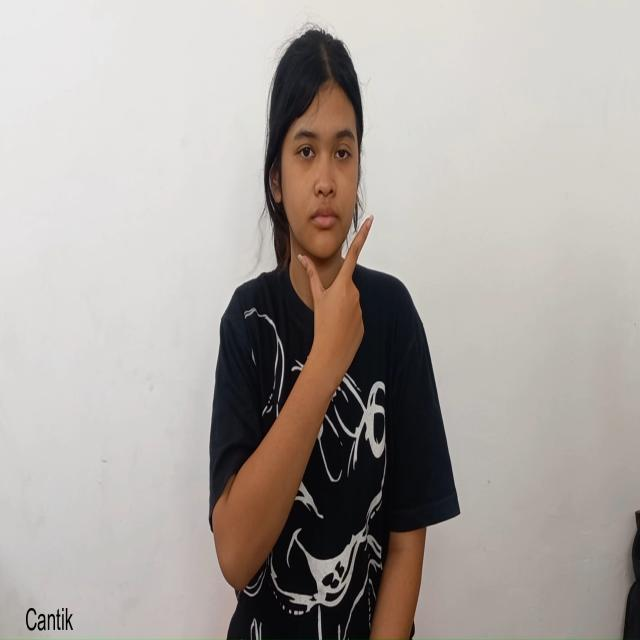Cantik -BISINDO-: (256, 11, 376, 421)
